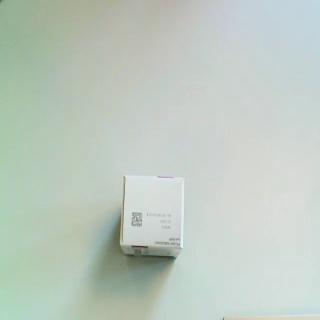sobril25mg: (118, 171, 186, 263)
